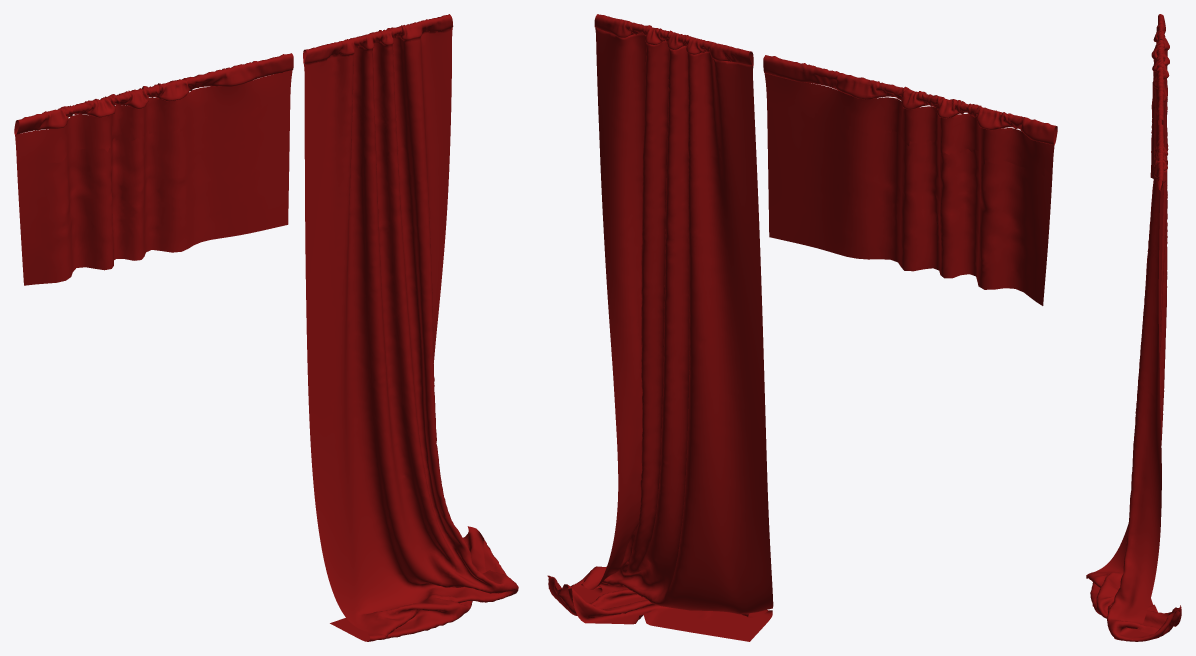
Rendered from Tule.FBX.
3 views of the same model, side by side, from view 1: azimuth 30°, elevation 25°; view 2: azimuth 150°, elevation 25°; view 3: azimuth 270°, elevation 25° (orthographic). The views are drawn at different scales.
Parts seen in each view (by area): view 1: Tape_low_Unwrapped001, Object001; view 2: Tape_low_Unwrapped001, Object001; view 3: Tape_low_Unwrapped001, Object001.
Boxes of the visible parts, x1,y1,x2,y2 form: Tape_low_Unwrapped001: (14,14,518,641); Object001: (17,97,290,285); Tape_low_Unwrapped001: (547,14,1057,641); Object001: (767,102,1052,305); Tape_low_Unwrapped001: (1086,14,1181,641); Object001: (1150,78,1168,198).
Size of the model in its own units: 253 by 288 by 55.64.
